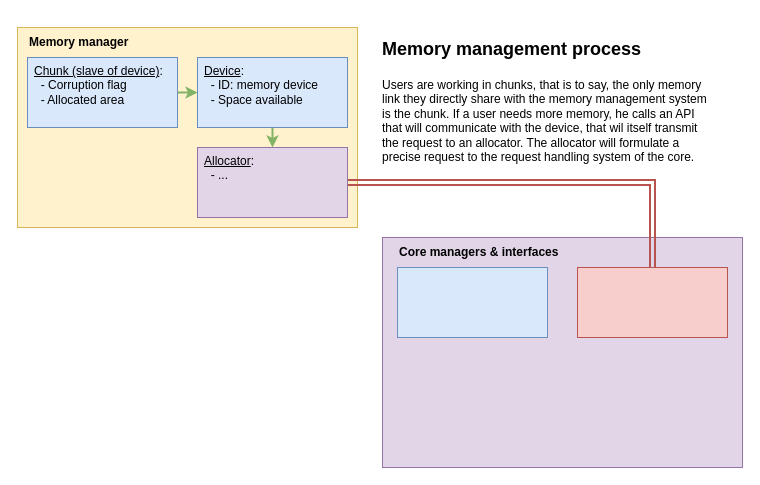
The diagram is 760 pixels wide and 485 high, and some of its shapes have lost their labels. The box of each missing label's shape, as (x1, y1, x2, y2) in pixels:
Device : - ID (kind, numeric ID...) - table: (396, 266, 548, 338)
Request : - descriptor - handler - queue: (576, 266, 728, 338)
